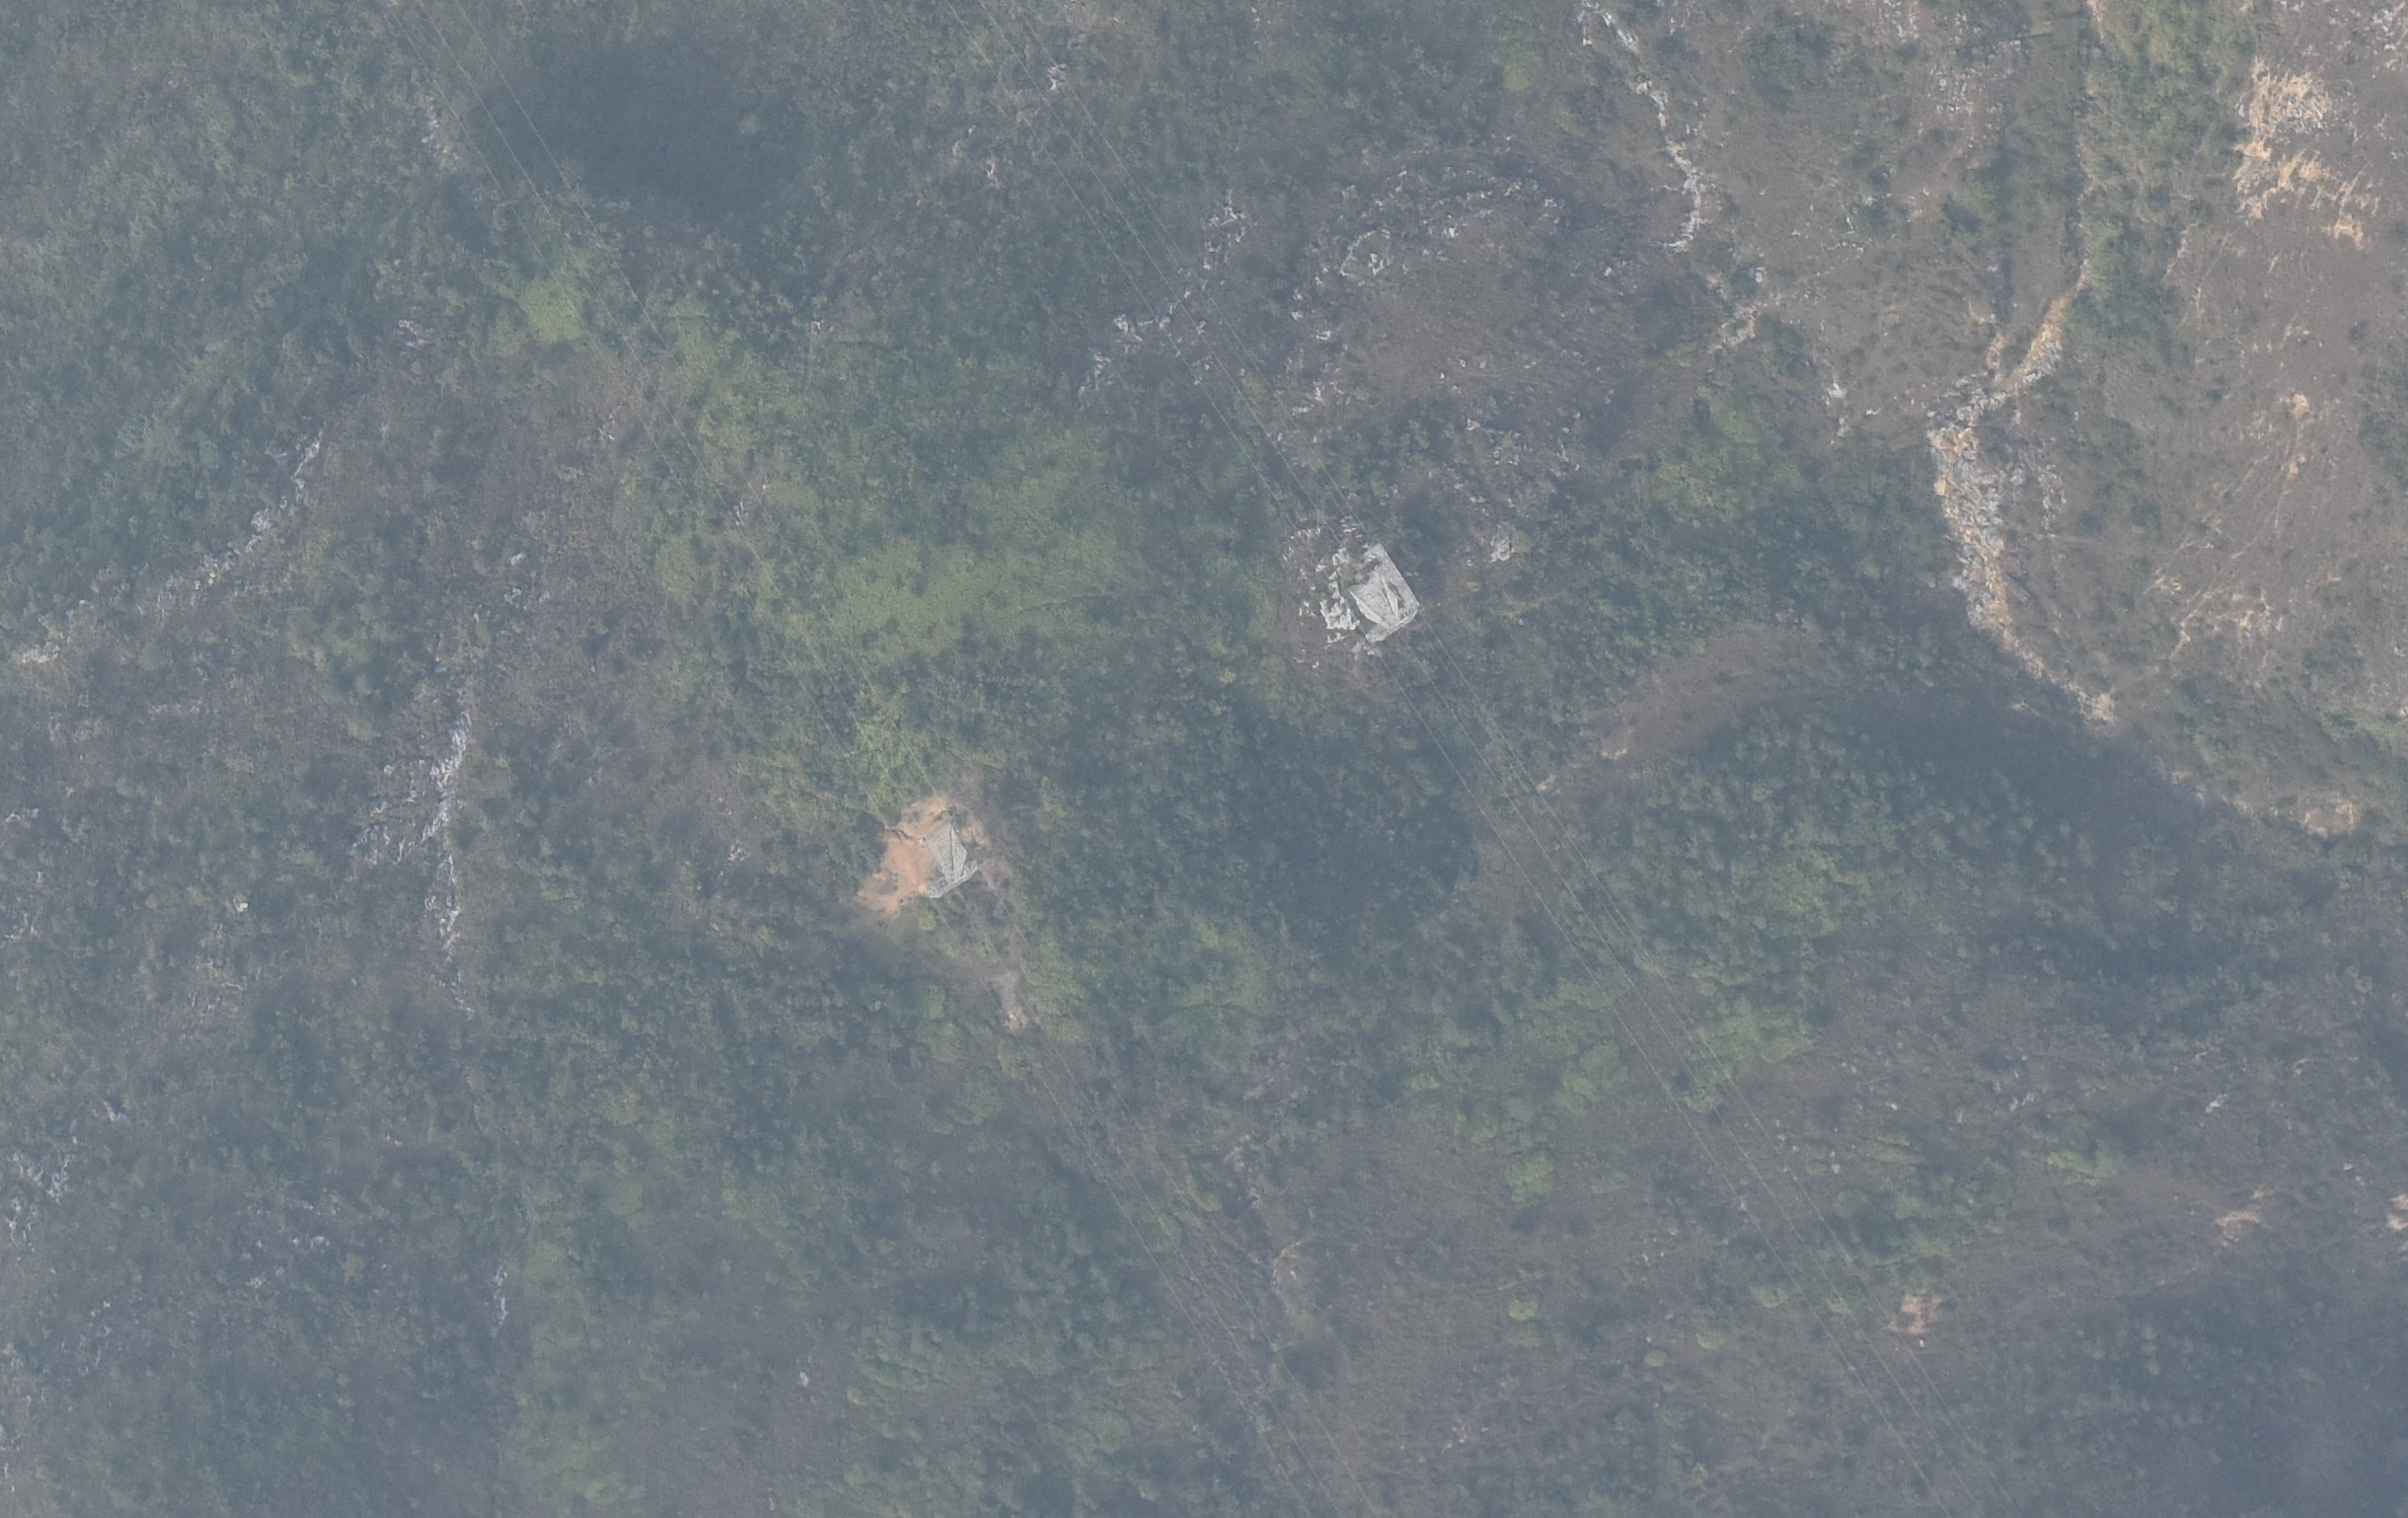cable-tower: (1348, 542, 1420, 642), (922, 817, 978, 899)
